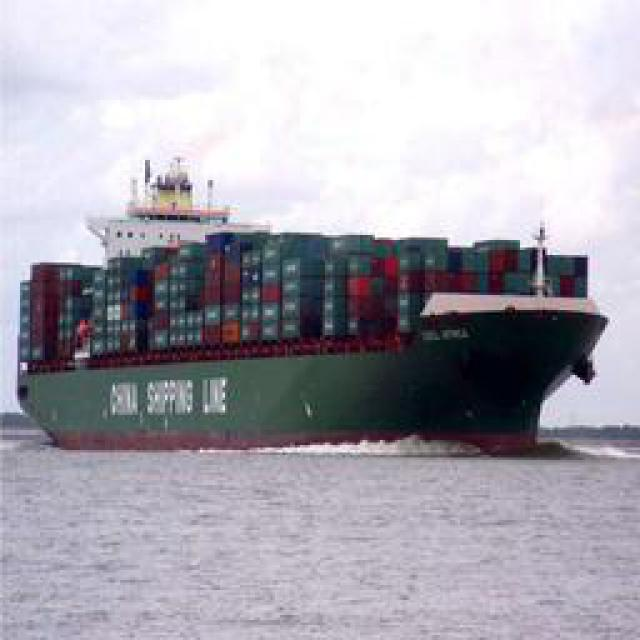Ship: (19, 189, 612, 444)
